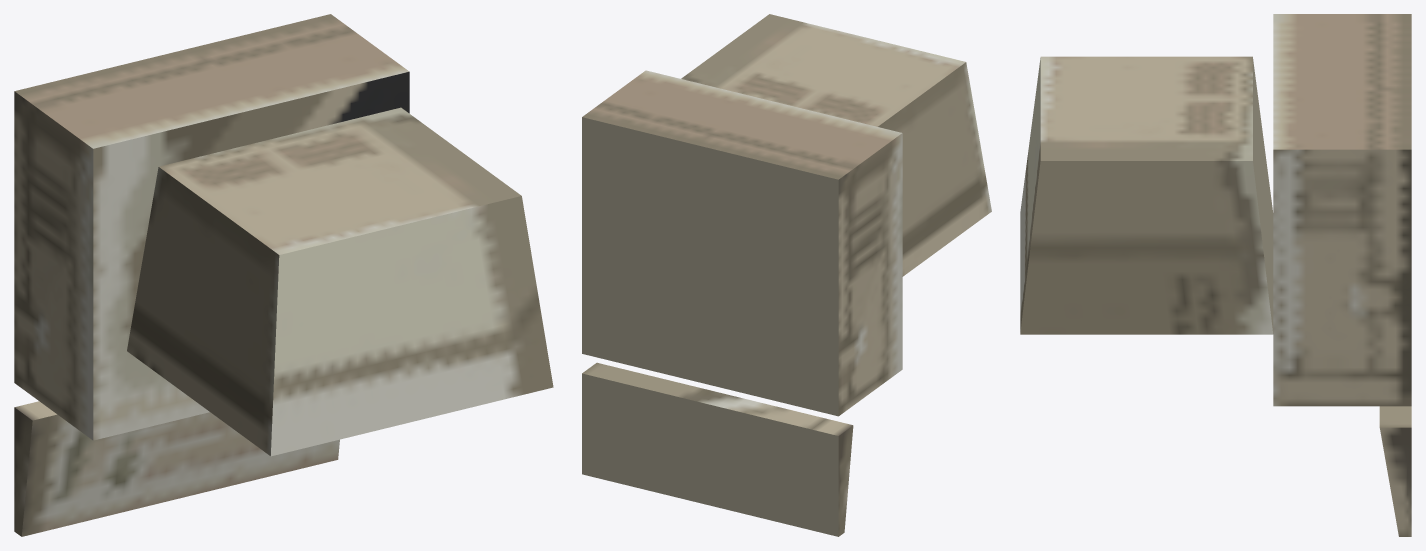
File: pz_g023_appliances_com_01_desktop_computer.obj
3 renders of one model, left to right at view 1: azimuth 30°, elevation 25°; view 2: azimuth 150°, elevation 25°; view 3: azimuth 270°, elevation 25°, orthographic. The views are drawn at different scales.
Parts seen in each view (by area): view 1: crt_top, crt_rear, crt_right, desktop_case_top, desktop_case_front, desktop_case_right, keyboard_keys, keyboard_right; view 2: desktop_case_bottom, keyboard_bottom, crt_rear, desktop_case_front, desktop_case_right, crt_right, keyboard_rear, keyboard_right; view 3: crt_left, desktop_case_left, crt_rear, desktop_case_front, keyboard_left, crt_bottom, crt_top, keyboard_rear.
Boxes of the visible parts, left/top/right/bottom form: crt_top: left=271, top=196, right=553, bottom=456; crt_rear: left=159, top=107, right=521, bottom=254; crt_right: left=127, top=167, right=279, bottom=455; desktop_case_top: left=93, top=71, right=409, bottom=440; desktop_case_front: left=15, top=14, right=408, bottom=148; desktop_case_right: left=14, top=91, right=93, bottom=440; keyboard_keys: left=21, top=412, right=339, bottom=536; keyboard_right: left=14, top=407, right=32, bottom=536; desktop_case_bottom: left=582, top=117, right=838, bottom=416; keyboard_bottom: left=582, top=373, right=838, bottom=536; crt_rear: left=681, top=14, right=965, bottom=126; desktop_case_front: left=582, top=70, right=901, bottom=179; desktop_case_right: left=838, top=133, right=902, bottom=415; crt_right: left=878, top=62, right=991, bottom=276; keyboard_rear: left=582, top=362, right=852, bottom=435; keyboard_right: left=838, top=425, right=853, bottom=536; crt_left: left=1020, top=161, right=1273, bottom=334; desktop_case_left: left=1273, top=149, right=1411, bottom=406; crt_rear: left=1040, top=56, right=1252, bottom=160; desktop_case_front: left=1273, top=14, right=1411, bottom=149; keyboard_left: left=1380, top=427, right=1411, bottom=536; crt_bottom: left=1253, top=59, right=1273, bottom=333; crt_top: left=1020, top=58, right=1040, bottom=331; keyboard_rear: left=1379, top=406, right=1411, bottom=427.
Bounding box in the file's own units: 0.551 × 0.7329 × 0.6717.
1 material, 1 textured.
